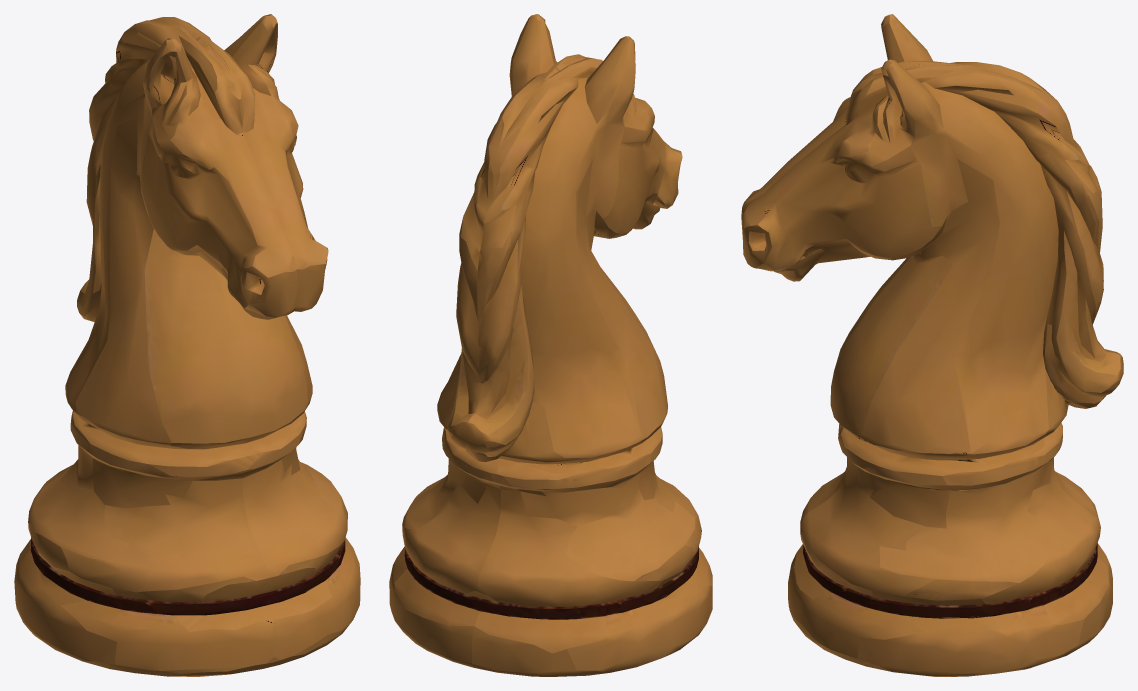
3 renders of one model, left to right at view 1: azimuth 30°, elevation 25°; view 2: azimuth 150°, elevation 25°; view 3: azimuth 270°, elevation 25°, orthographic. The views are drawn at different scales.
Visible parts, largest first — view 1: geometry_0; view 2: geometry_0; view 3: geometry_0.
Part boxes in pixels (bbox=[...]): geometry_0: bbox=[14, 14, 360, 676]; geometry_0: bbox=[389, 14, 712, 676]; geometry_0: bbox=[741, 14, 1123, 676].
Size of the model in its own units: 0.521 by 1 by 0.6057.
Materials: 1 (1 with a texture image).
